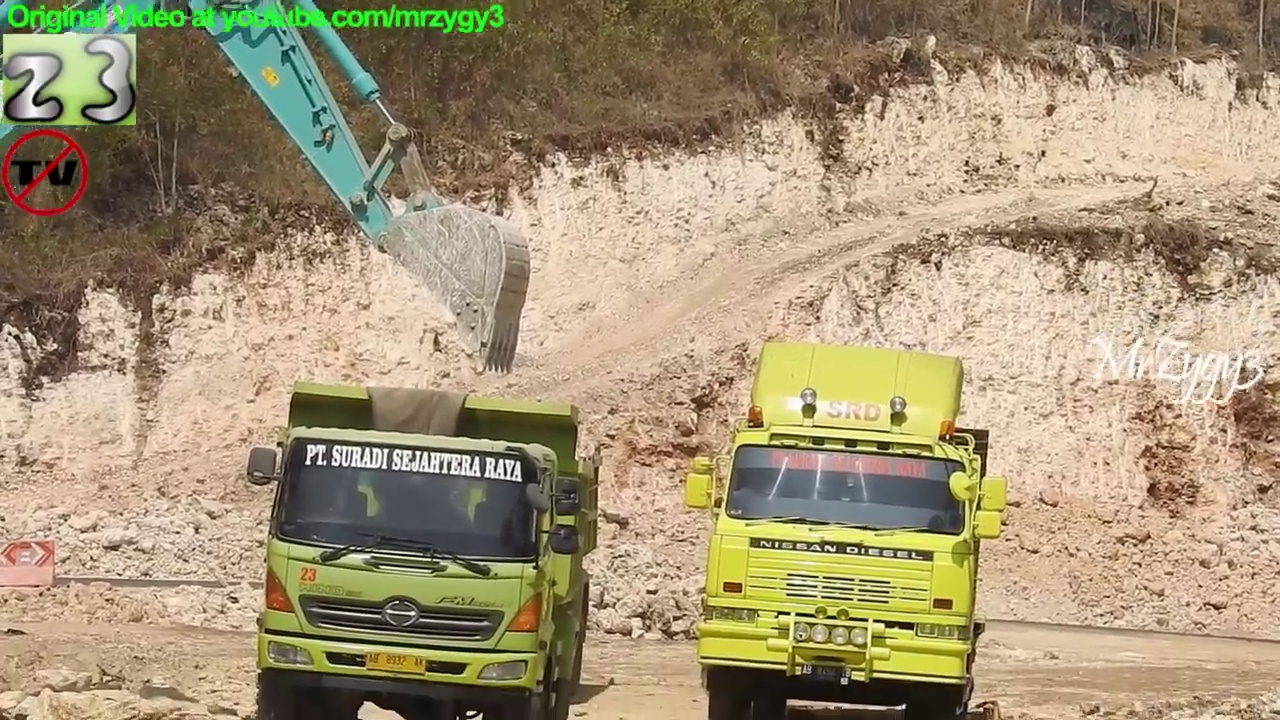excavator: (1, 1, 538, 379)
truck: (681, 333, 1017, 720), (241, 376, 610, 720)
